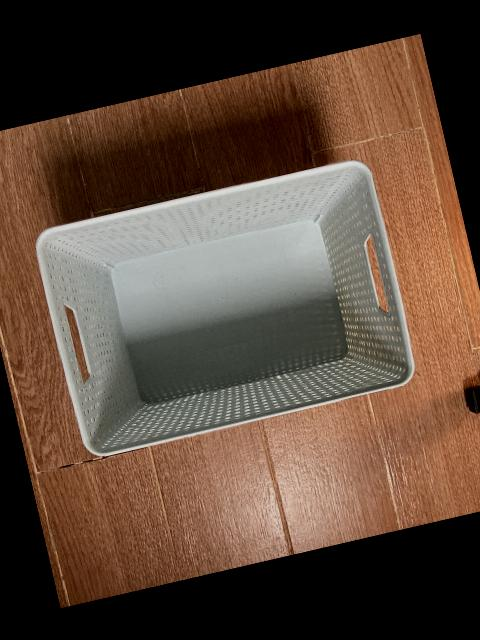cart: (36, 158, 417, 455)
